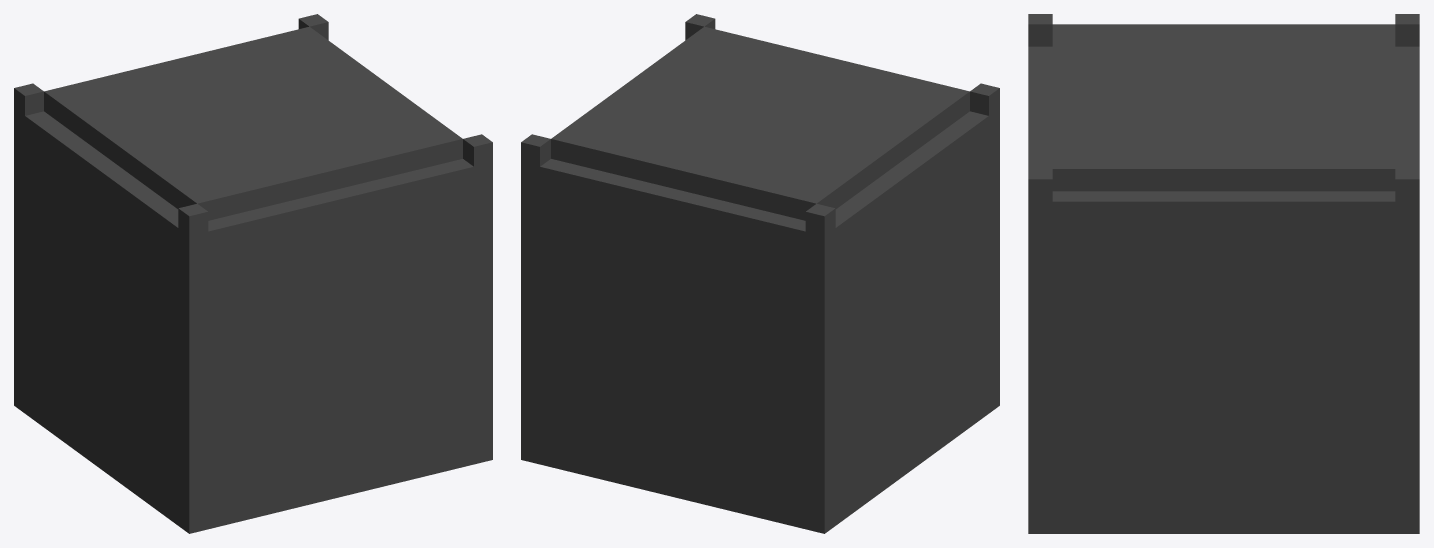
Rendered from Moyou7.obj.
3 renders of one model, left to right at view 1: azimuth 30°, elevation 25°; view 2: azimuth 150°, elevation 25°; view 3: azimuth 270°, elevation 25°, orthographic. The views are drawn at different scales.
Visible parts, largest first — view 1: Moyou7; view 2: Moyou7; view 3: Moyou7.
Part boxes in pixels (bbox=[...]): Moyou7: bbox=[14, 14, 492, 533]; Moyou7: bbox=[521, 14, 999, 533]; Moyou7: bbox=[1028, 14, 1419, 533].
Size of the model in its own units: 16 by 16 by 16.
Materials: 1 (1 with a texture image).
